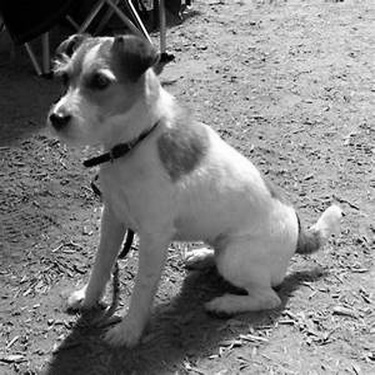dog: (35, 23, 355, 354)
